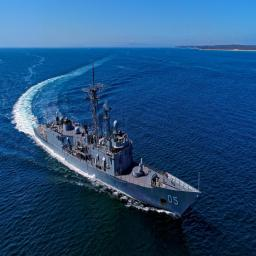Fragata: (35, 61, 203, 225)
